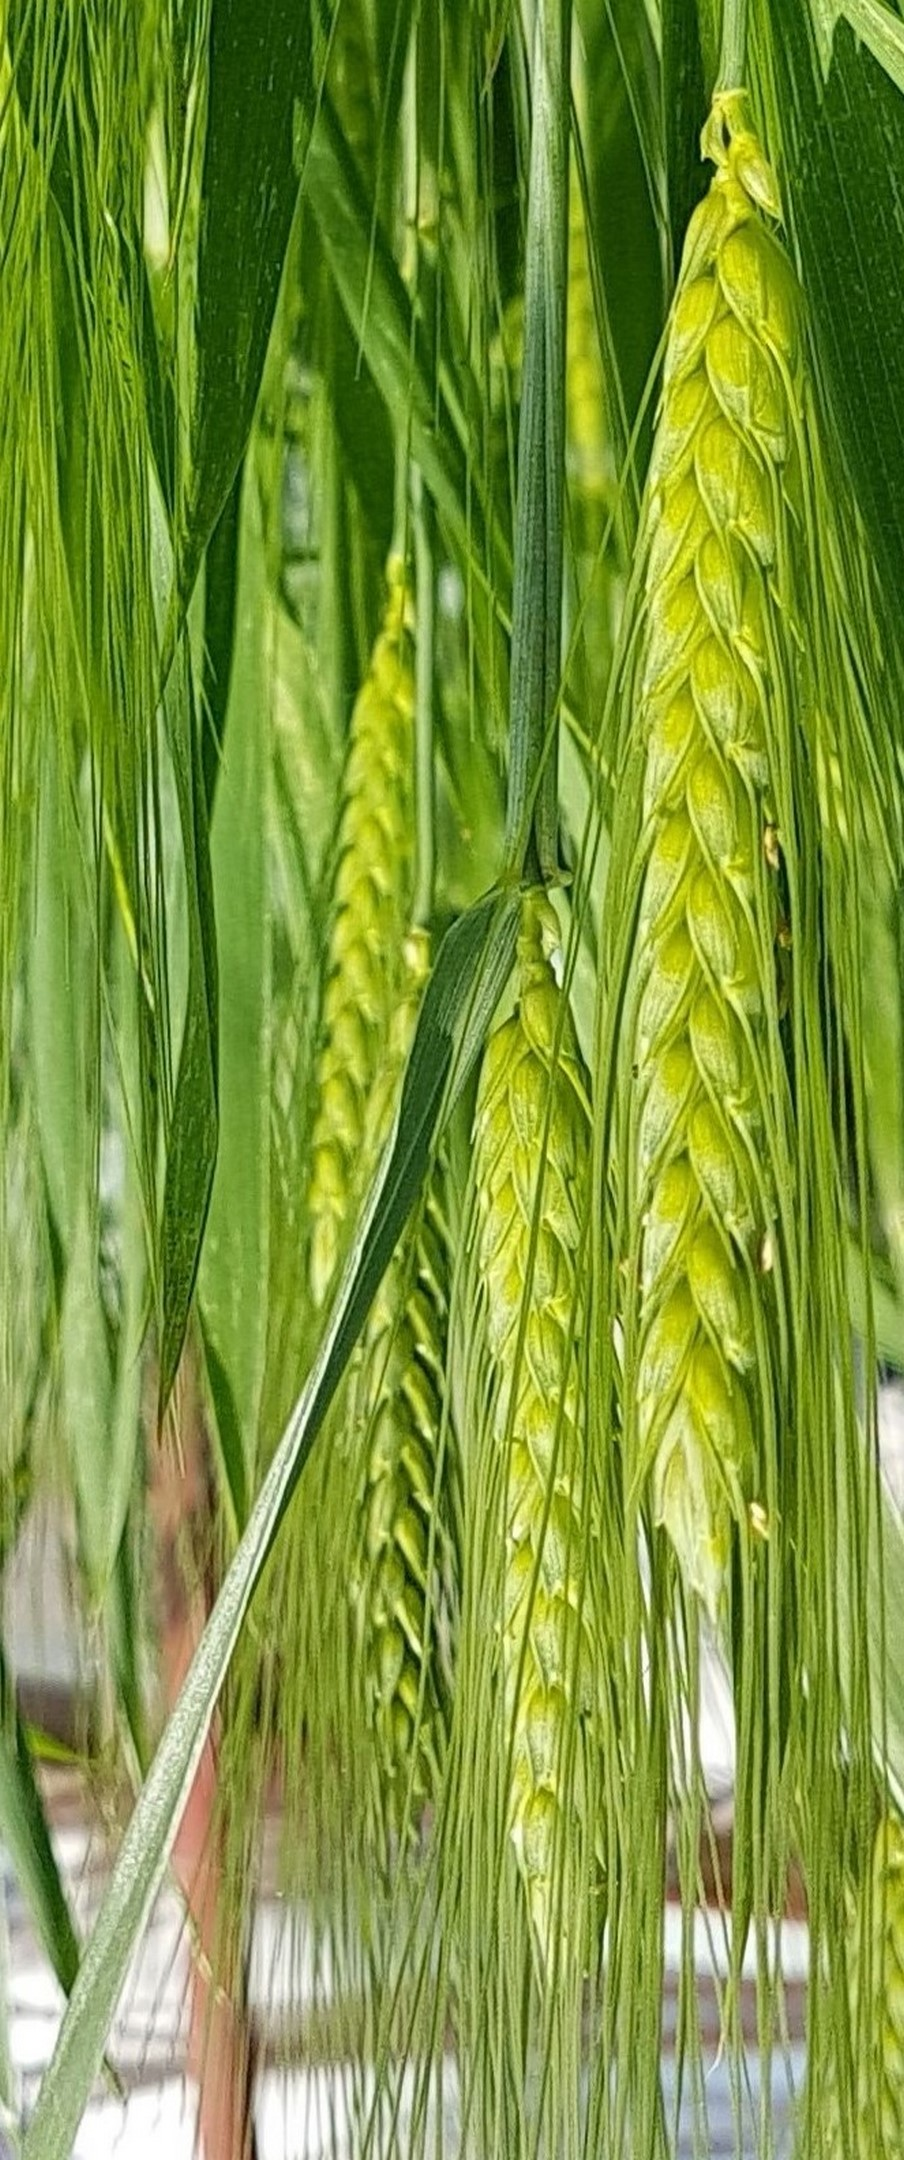Healthy Wheat: (593, 178, 897, 1579)
